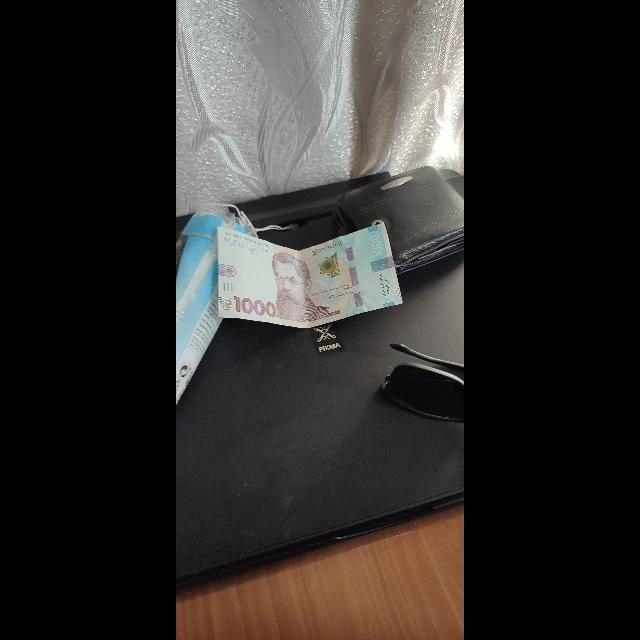1000uah: (220, 221, 401, 330)
